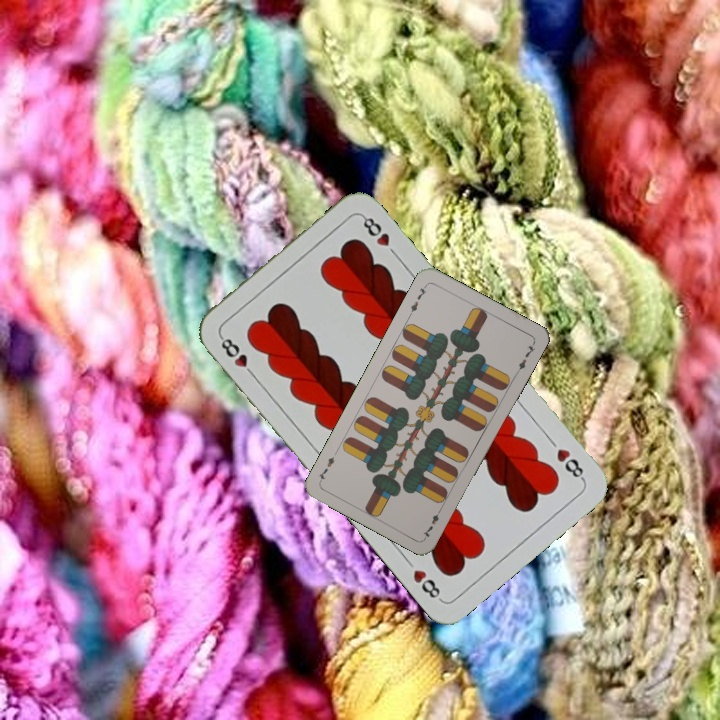E7: (419, 503, 445, 540), (405, 280, 430, 318)
H8: (216, 331, 259, 381), (552, 444, 588, 483)
